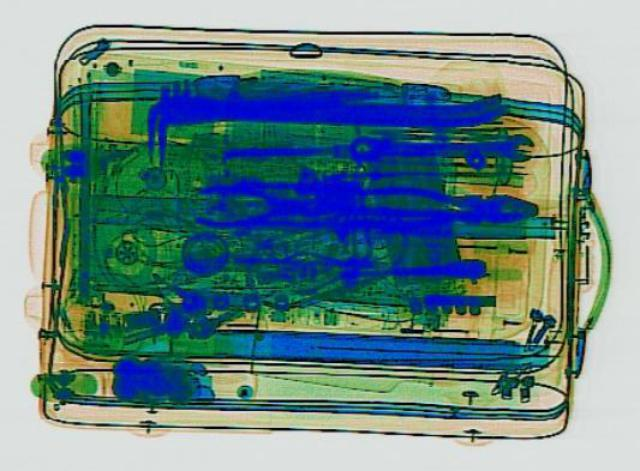Pliers: (348, 180, 538, 226), (190, 180, 344, 232)
Wrench: (351, 132, 533, 159)
